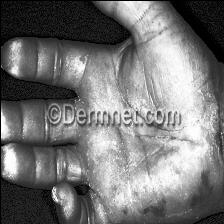Non-Cancerous Skin Condition: (124, 139, 224, 216), (0, 35, 30, 79), (0, 142, 24, 182), (64, 178, 82, 224), (0, 107, 19, 146)
